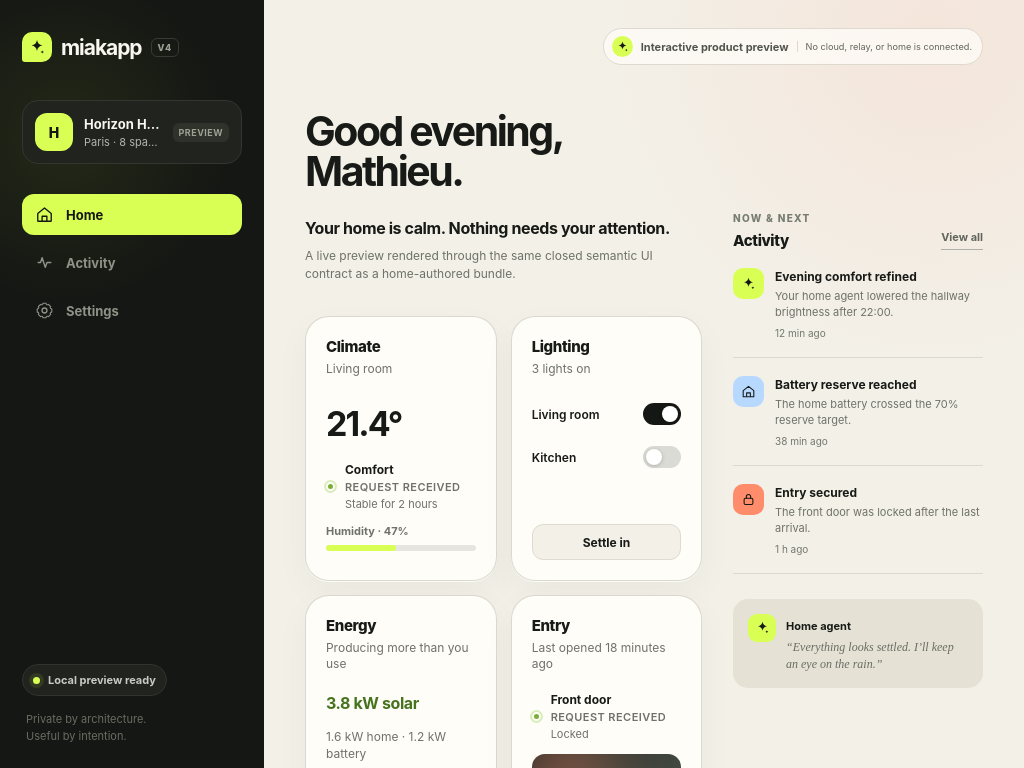
Test case: App › makes preview boundaries explicit and updates local semantic state
This screenshot has width=1024, height=768.
Expected: the message "Interactive product preview" is shown, left=641, top=40, right=788, bottom=54
Expected: the message "Interactive product preview" shows "No cloud, relay, or home is connected.", left=806, top=41, right=972, bottom=52
Click the checkbox labelled "Kitchen" at (554, 457), box left=532, top=442, right=681, bottom=472
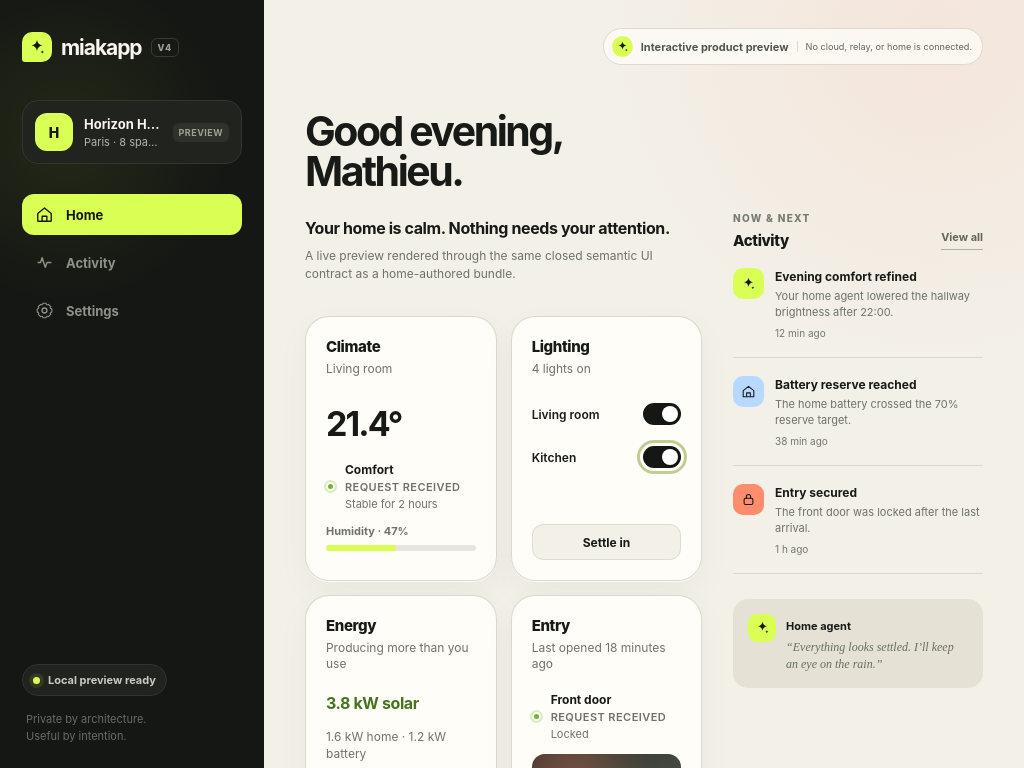
Expected: the text "4 lights on" is shown, left=532, top=361, right=591, bottom=376
